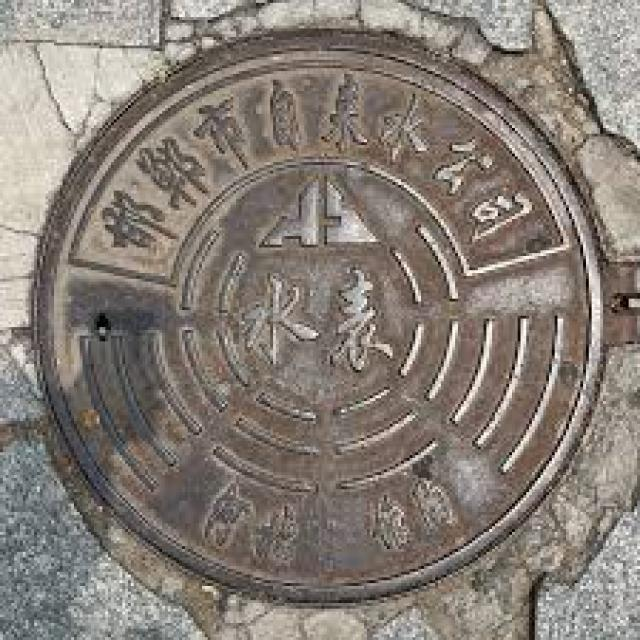manhole: (35, 34, 602, 601)
